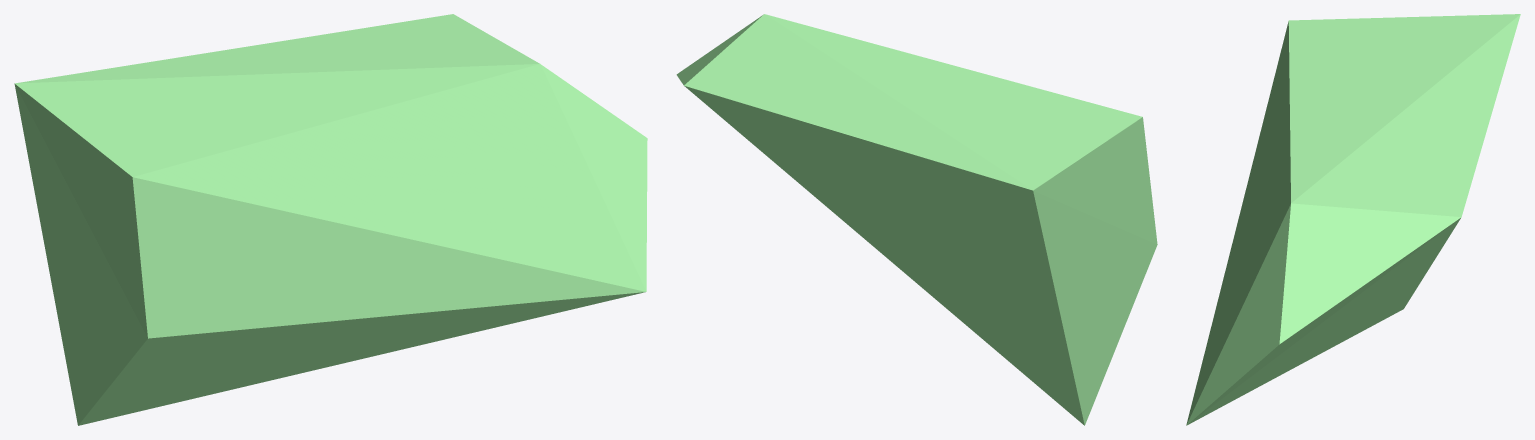
The model's file is linkhou_LR4_R560_link7_respondable_coll_4.dae.
3 views of the same model, side by side, from view 1: azimuth 30°, elevation 25°; view 2: azimuth 150°, elevation 25°; view 3: azimuth 270°, elevation 25° (orthographic). The views are drawn at different scales.
Visible parts, largest first — view 1: Node_00000209DB3AC2E0; view 2: Node_00000209DB3AC2E0; view 3: Node_00000209DB3AC2E0.
Boxes of the visible parts, x1,y1,x2,y2 form: Node_00000209DB3AC2E0: [14, 14, 647, 425]; Node_00000209DB3AC2E0: [676, 14, 1157, 425]; Node_00000209DB3AC2E0: [1186, 14, 1520, 425].
Bounding box in the file's own units: 0.00998 × 0.00571 × 0.00579.
